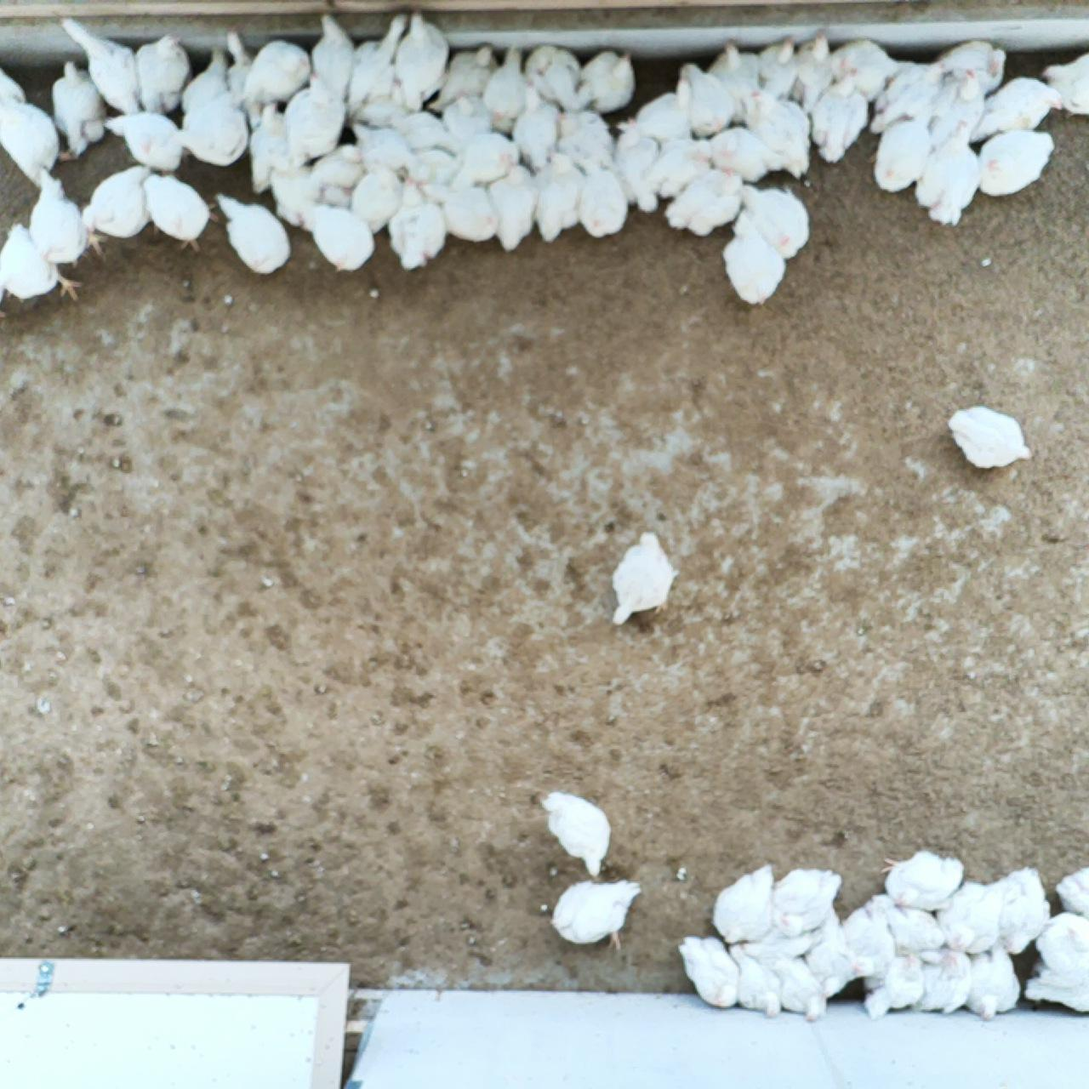chicken: (58, 18, 149, 117), (0, 215, 89, 305), (966, 71, 1060, 150), (213, 187, 291, 281), (536, 790, 613, 885), (27, 168, 104, 263), (721, 206, 792, 309), (345, 10, 412, 118), (913, 122, 982, 226), (139, 168, 222, 254), (607, 529, 682, 624), (552, 874, 644, 951), (806, 64, 873, 168), (46, 59, 114, 161), (742, 86, 815, 181), (944, 401, 1037, 474), (869, 58, 952, 138), (0, 93, 64, 194), (940, 876, 1015, 961), (84, 161, 157, 246), (733, 182, 814, 258), (296, 197, 377, 273), (988, 869, 1057, 957), (176, 88, 253, 166), (245, 98, 308, 193), (868, 888, 944, 966), (424, 40, 505, 113), (707, 862, 778, 945), (664, 164, 747, 235), (287, 72, 350, 165), (959, 941, 1026, 1027), (977, 127, 1055, 200), (389, 169, 443, 274), (520, 41, 590, 120), (614, 114, 666, 220), (218, 30, 273, 130), (771, 865, 848, 936), (134, 29, 193, 121), (421, 178, 502, 245), (241, 36, 315, 109), (856, 948, 931, 1020), (691, 124, 781, 184), (767, 945, 833, 1026), (644, 127, 712, 204), (881, 849, 965, 911), (704, 45, 766, 129), (926, 66, 991, 146), (100, 106, 182, 168), (488, 161, 541, 256), (678, 929, 735, 1017), (399, 13, 448, 115), (827, 36, 906, 99), (512, 85, 563, 182), (533, 148, 586, 240), (181, 46, 244, 123), (304, 12, 361, 97), (929, 37, 1011, 96), (610, 87, 697, 142), (262, 153, 324, 230), (348, 157, 404, 242), (1018, 951, 1089, 1018), (800, 908, 851, 1001), (576, 153, 630, 240), (564, 50, 635, 114), (674, 58, 733, 135), (867, 116, 929, 189), (483, 41, 532, 133), (914, 948, 977, 1018), (839, 894, 889, 981), (448, 126, 519, 187), (344, 73, 415, 134), (787, 33, 840, 114), (554, 103, 612, 175), (348, 115, 411, 181), (740, 920, 830, 964), (312, 139, 370, 205), (729, 944, 783, 1013), (1038, 50, 1089, 122), (441, 91, 496, 157), (1029, 910, 1089, 970), (750, 37, 808, 99), (400, 144, 466, 192), (384, 111, 454, 151), (1051, 864, 1089, 913), (0, 63, 36, 104)
